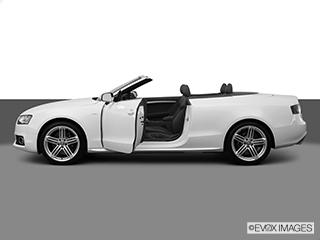car: (15, 76, 309, 168)
